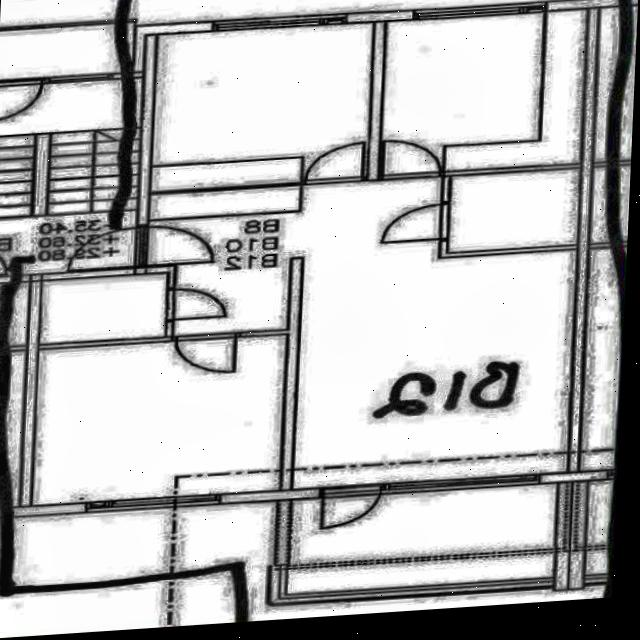room: (22, 335, 295, 506), (151, 13, 372, 183), (370, 9, 595, 175), (280, 483, 563, 595), (442, 169, 583, 253), (35, 274, 170, 344)
